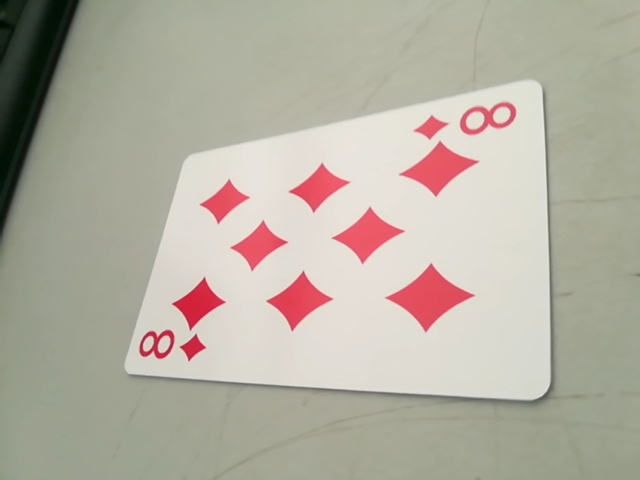fk 8: (414, 97, 524, 144), (133, 325, 206, 370)
